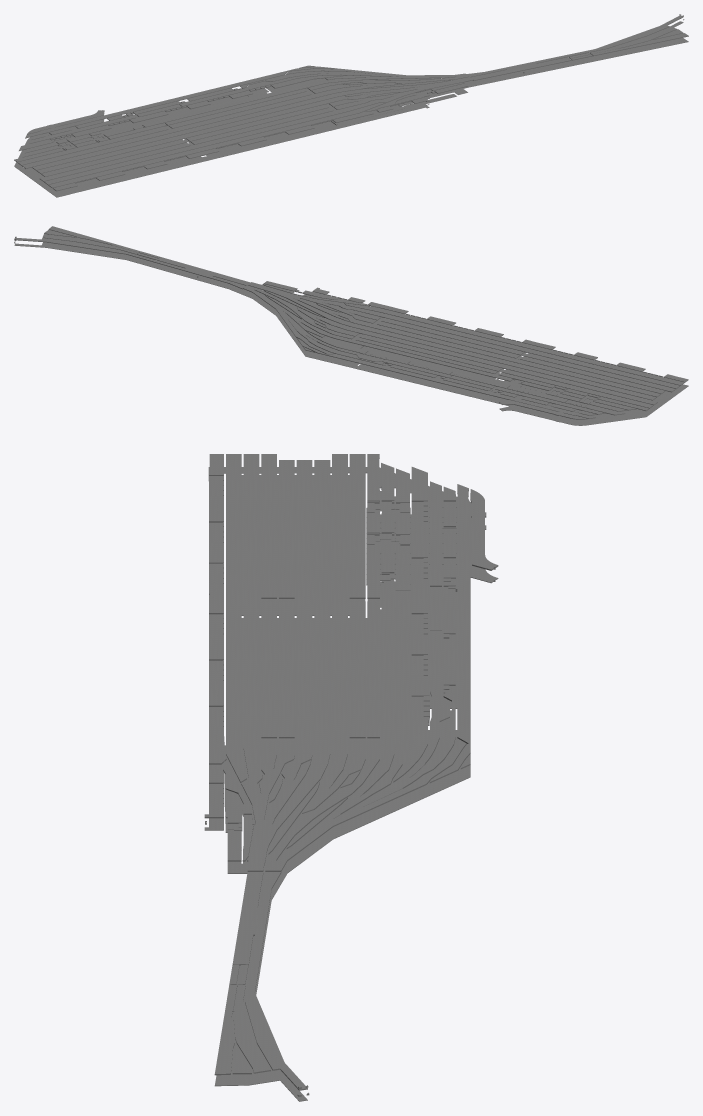
3 views of the same model, one above another, from view 1: azimuth 30°, elevation 25°; view 2: azimuth 150°, elevation 25°; view 3: azimuth 270°, elevation 25° (orthographic). The views are drawn at different scales.
Visible parts, largest first — view 1: BIM2_171, BIM2_206, BIM2_227, BIM2_236, BIM2_228, BIM2_233, BIM2_235, BIM2_127, BIM2_071, BIM2_139, BIM2_301, BIM2_133 (+13 smaller); view 2: BIM2_171, BIM2_206, BIM2_227, BIM2_236, BIM2_228, BIM2_235, BIM2_233, BIM2_127, BIM2_139, BIM2_301, BIM2_133, BIM2_071 (+12 smaller); view 3: BIM2_171, BIM2_206, BIM2_071, BIM2_228, BIM2_127, BIM2_233, BIM2_227, BIM2_235, BIM2_236, BIM2_139, BIM2_133, BIM2_301 (+13 smaller).
Part boxes in pixels (x1=…): BIM2_171: x1=14, y1=85, x2=429, y2=197; BIM2_206: x1=290, y1=21, x2=688, y2=123; BIM2_227: x1=48, y1=103, x2=384, y2=188; BIM2_236: x1=22, y1=88, x2=343, y2=168; BIM2_228: x1=44, y1=104, x2=364, y2=184; BIM2_233: x1=36, y1=96, x2=354, y2=173; BIM2_235: x1=32, y1=92, x2=347, y2=170; BIM2_127: x1=313, y1=68, x2=469, y2=85; BIM2_071: x1=25, y1=121, x2=335, y2=192; BIM2_139: x1=466, y1=15, x2=683, y2=80; BIM2_301: x1=25, y1=66, x2=337, y2=138; BIM2_133: x1=344, y1=77, x2=473, y2=106; BIM2_171: x1=333, y1=303, x2=688, y2=425; BIM2_206: x1=14, y1=242, x2=384, y2=362; BIM2_227: x1=344, y1=303, x2=684, y2=385; BIM2_236: x1=337, y1=324, x2=657, y2=404; BIM2_228: x1=358, y1=308, x2=679, y2=388; BIM2_235: x1=341, y1=320, x2=656, y2=400; BIM2_233: x1=348, y1=316, x2=660, y2=397; BIM2_127: x1=243, y1=285, x2=331, y2=346; BIM2_139: x1=14, y1=237, x2=250, y2=289; BIM2_301: x1=297, y1=338, x2=595, y2=418; BIM2_133: x1=248, y1=282, x2=360, y2=323; BIM2_071: x1=361, y1=346, x2=671, y2=413; BIM2_171: x1=204, y1=467, x2=498, y2=830; BIM2_206: x1=214, y1=750, x2=470, y2=1101; BIM2_071: x1=241, y1=475, x2=381, y2=744; BIM2_228: x1=243, y1=454, x2=259, y2=763; BIM2_127: x1=265, y1=763, x2=452, y2=871; BIM2_233: x1=287, y1=460, x2=312, y2=764; BIM2_227: x1=226, y1=454, x2=246, y2=782; BIM2_235: x1=312, y1=460, x2=330, y2=763; BIM2_236: x1=329, y1=454, x2=347, y2=764; BIM2_139: x1=232, y1=872, x2=307, y2=1090; BIM2_133: x1=241, y1=763, x2=327, y2=871; BIM2_301: x1=429, y1=484, x2=470, y2=783.
Size of the model in its own units: 98480 by 1270 by 19277.
Materials: 1 (1 with a texture image).
